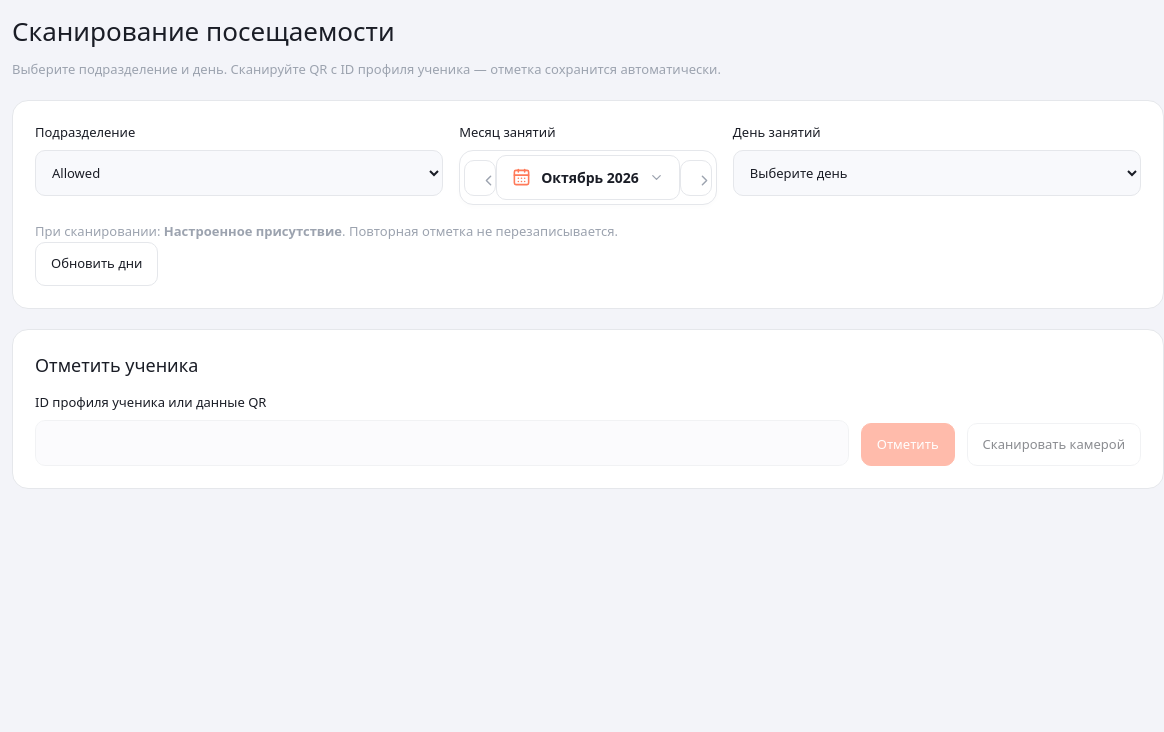
Test case: submits external profile ID in the chosen division/day and refreshes the revision
The width and height of the screenshot is (1164, 732).
Select "2026-10-19 · Занятие" in the dropdown named "День сканирования" at {"x": 937, "y": 173}, box [733,150,1141,196]
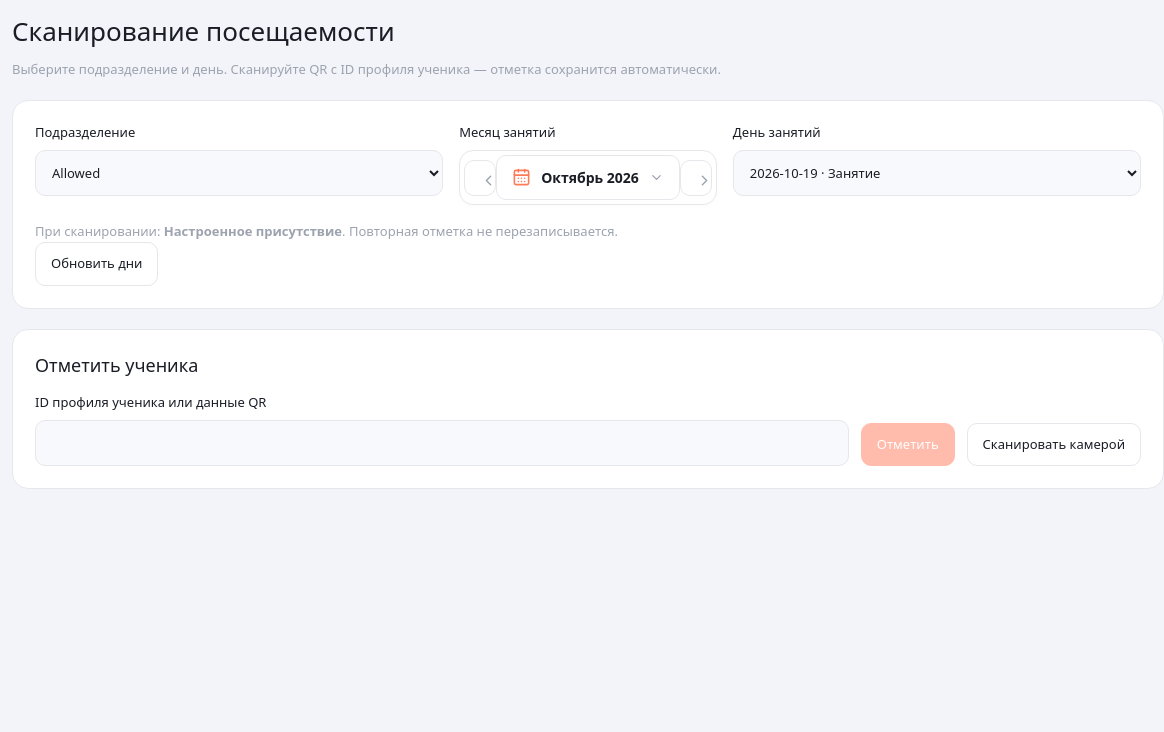
Type "700" into the field labelled "ID профиля ученика" at {"x": 442, "y": 443}, box [35,420,849,466]
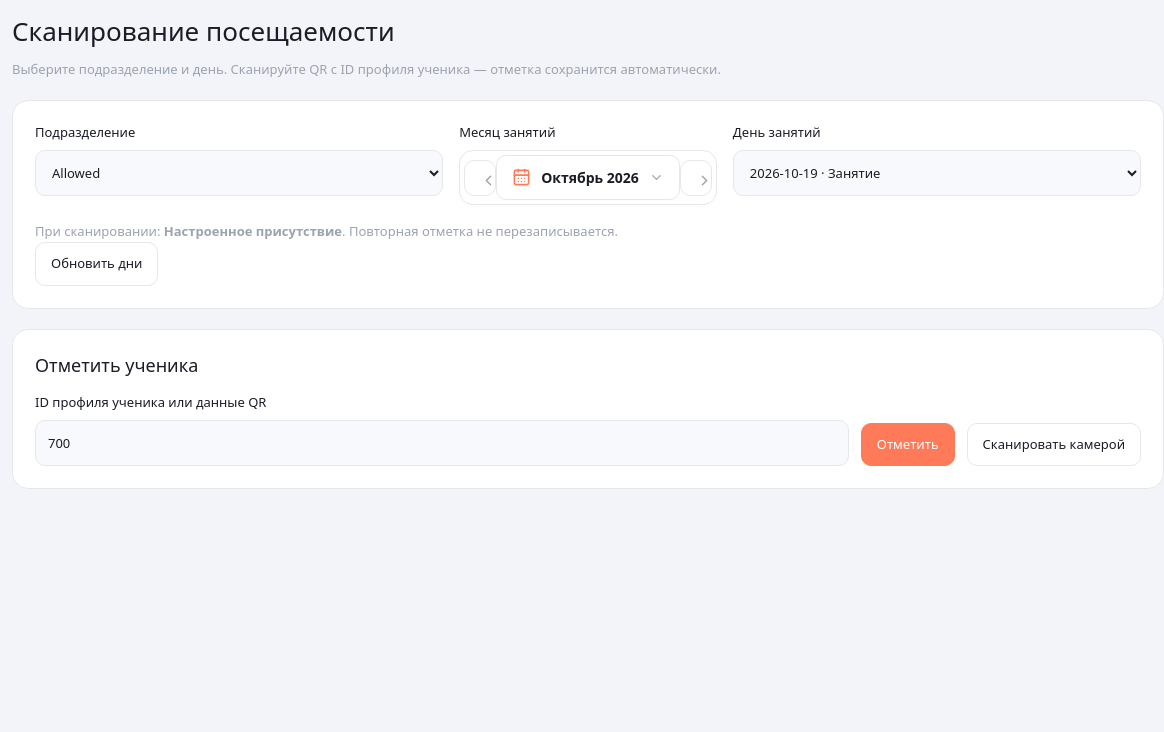
Click the button "Отметить" at {"x": 908, "y": 444}, box [861,423,955,466]
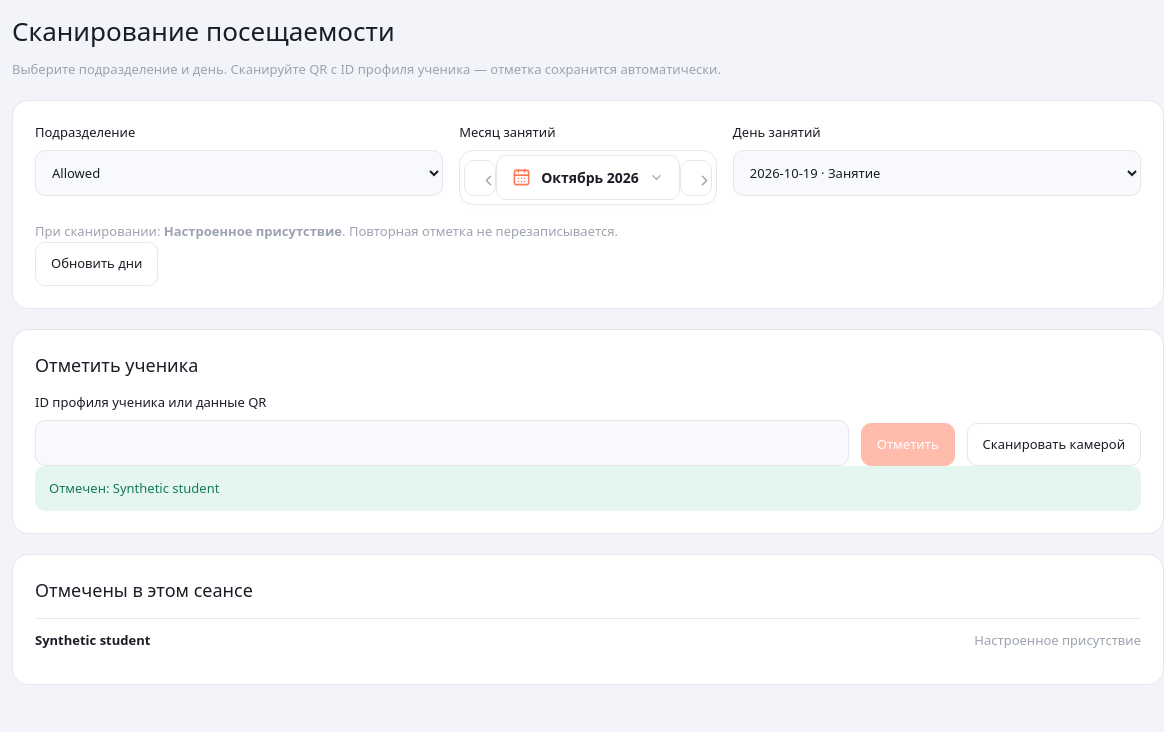
Check: the text "Отмечен: Synthetic student" is shown, box [35,466,1141,511]
